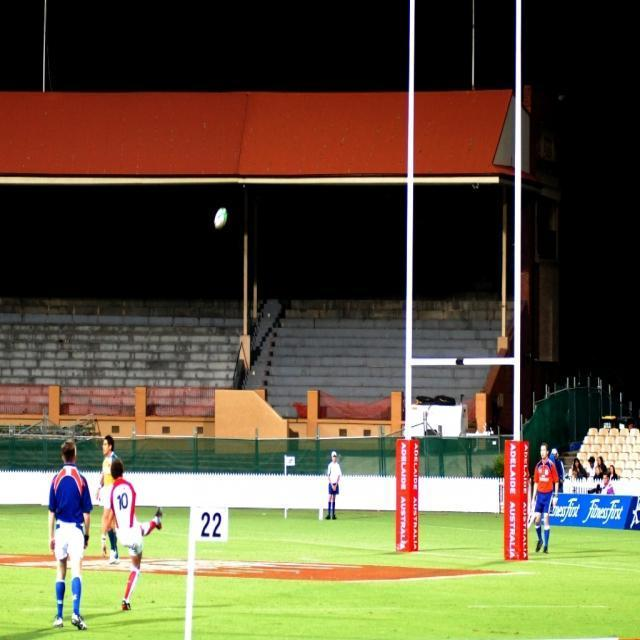football: (201, 205, 253, 243)
